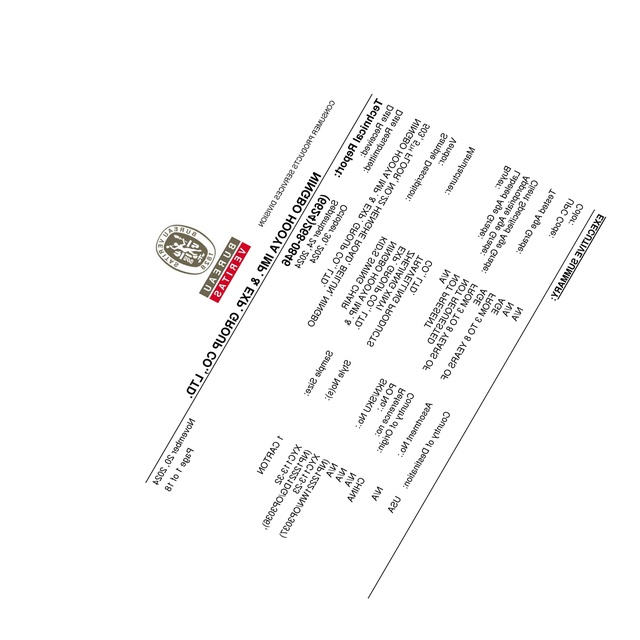bureau_veritas: (157, 224, 252, 304)
